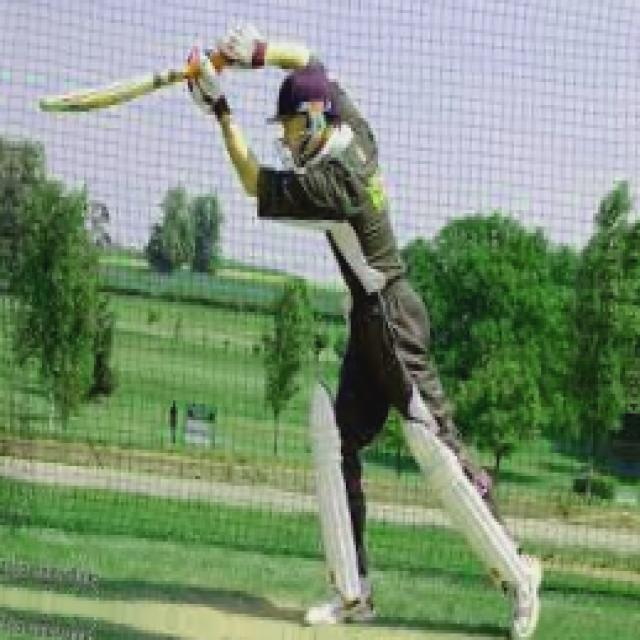toe: (38, 81, 96, 118)
